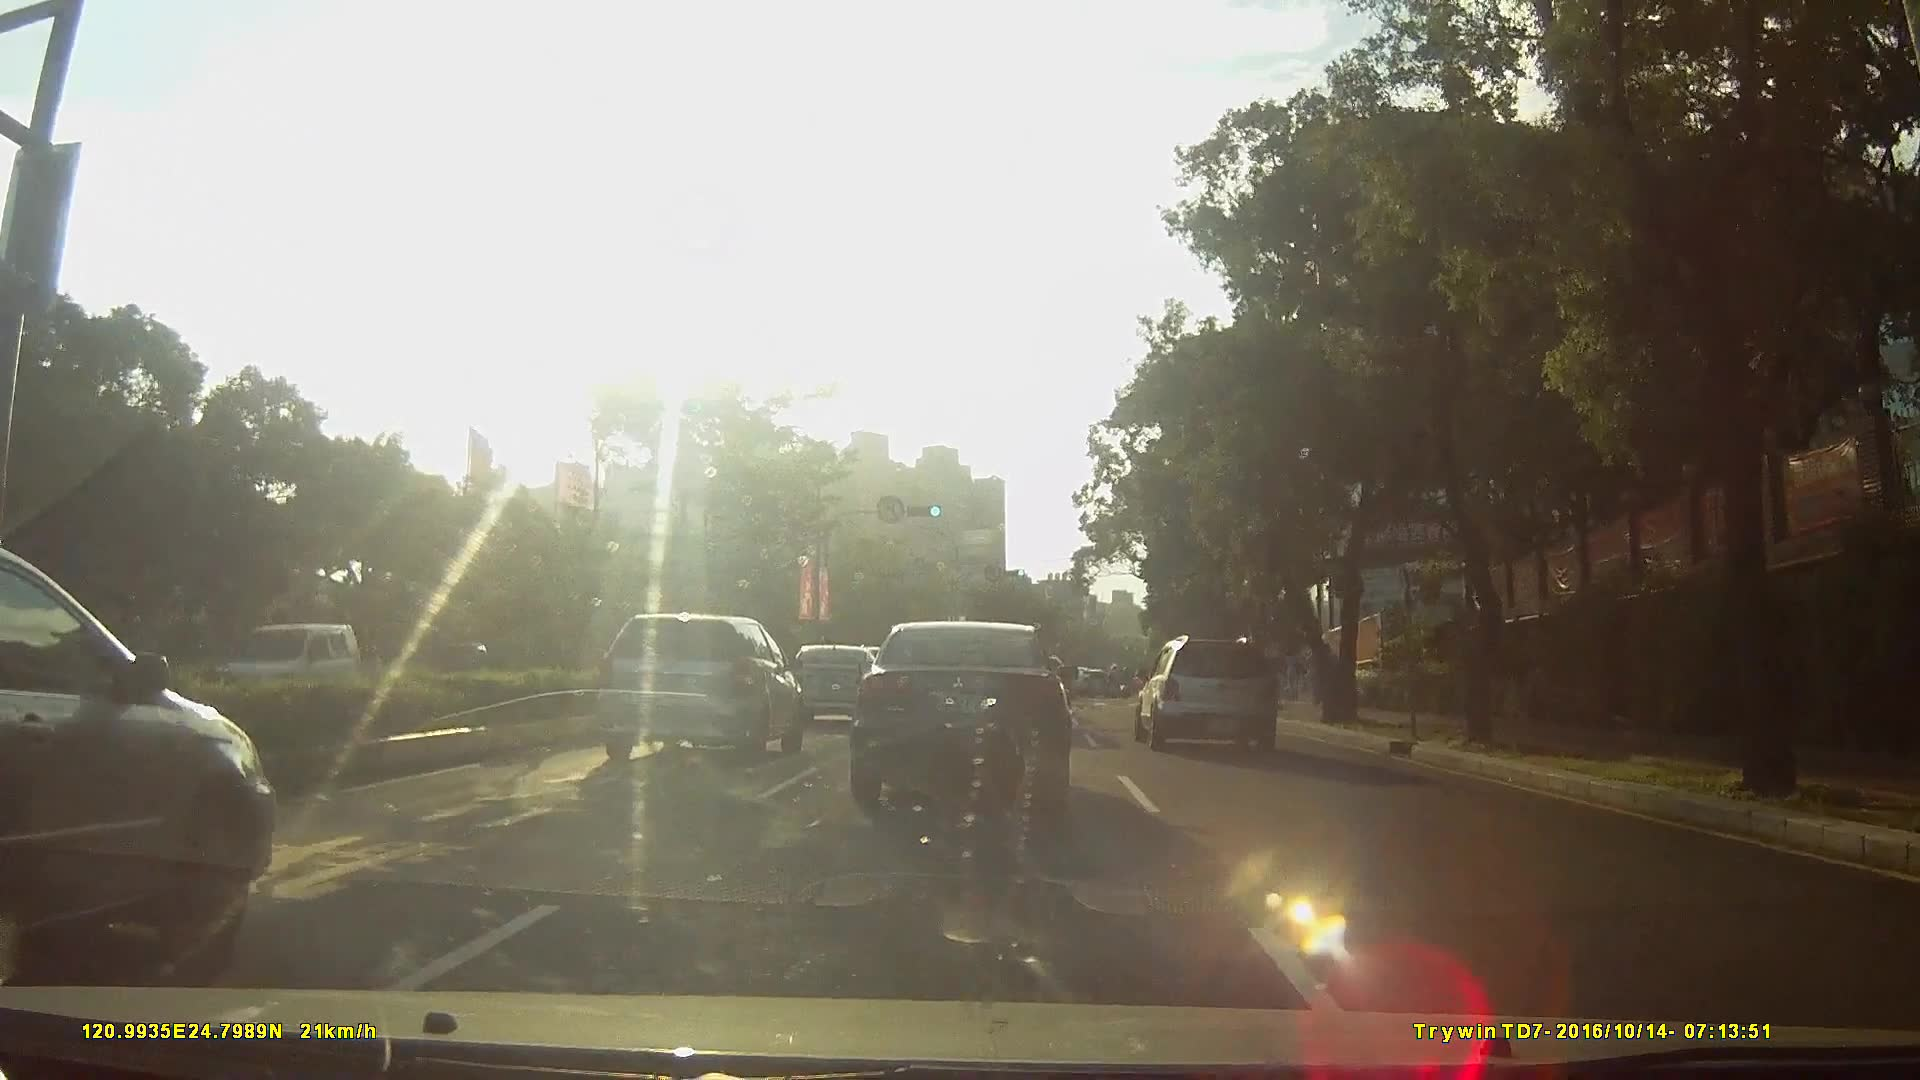vehicle: (1, 542, 301, 994), (851, 615, 1073, 816), (587, 608, 800, 760), (1134, 624, 1294, 744), (198, 620, 355, 711), (779, 638, 893, 721), (1073, 665, 1108, 695)
